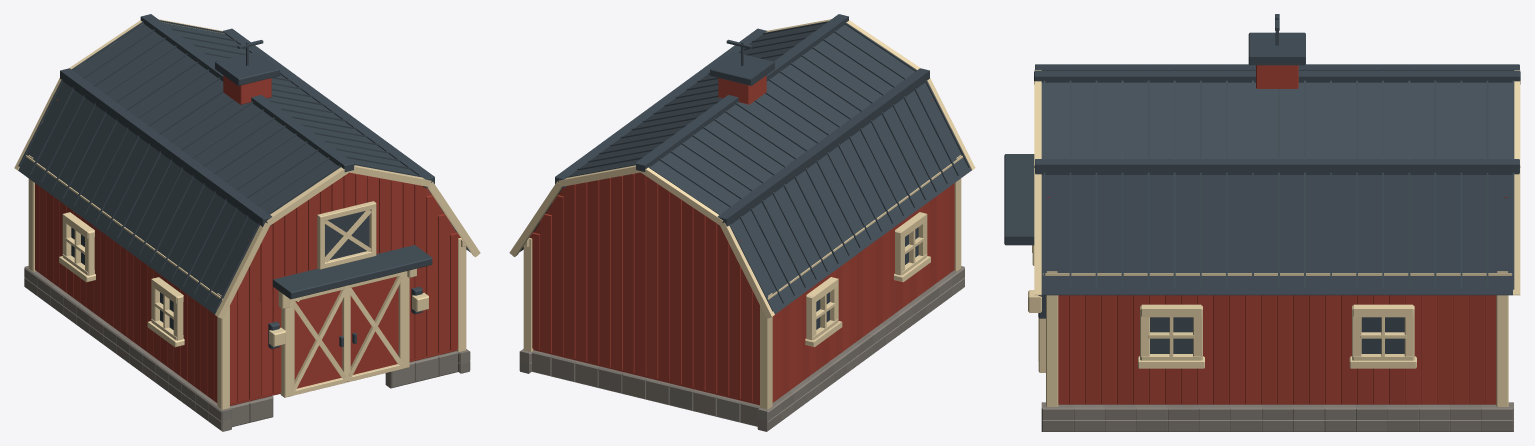
Rendered from barn-candidate.glb.
3 renders of one model, left to right at view 1: azimuth 30°, elevation 25°; view 2: azimuth 150°, elevation 25°; view 3: azimuth 270°, elevation 25°, orthographic. The views are drawn at different scales.
Visible parts, largest first — view 1: BarnSurface3, BarnSurface0, BarnSurface1, BarnSurface2; view 2: BarnSurface3, BarnSurface0, BarnSurface1, BarnSurface2; view 3: BarnSurface3, BarnSurface0, BarnSurface1, BarnSurface2.
Boxes of the visible parts, x1,y1,x2,y2 form: BarnSurface3: (18,14,470,349); BarnSurface0: (35,75,460,405); BarnSurface1: (14,19,480,409); BarnSurface2: (24,266,470,431); BarnSurface3: (520,14,971,329); BarnSurface0: (529,75,954,405); BarnSurface1: (509,19,975,409); BarnSurface2: (519,266,964,431); BarnSurface3: (1004,14,1520,353); BarnSurface0: (1047,65,1507,404); BarnSurface1: (1028,69,1520,406); BarnSurface2: (1041,402,1513,431).
Bounding box in the file's own units: 8.89 × 9.28 × 12.68.
